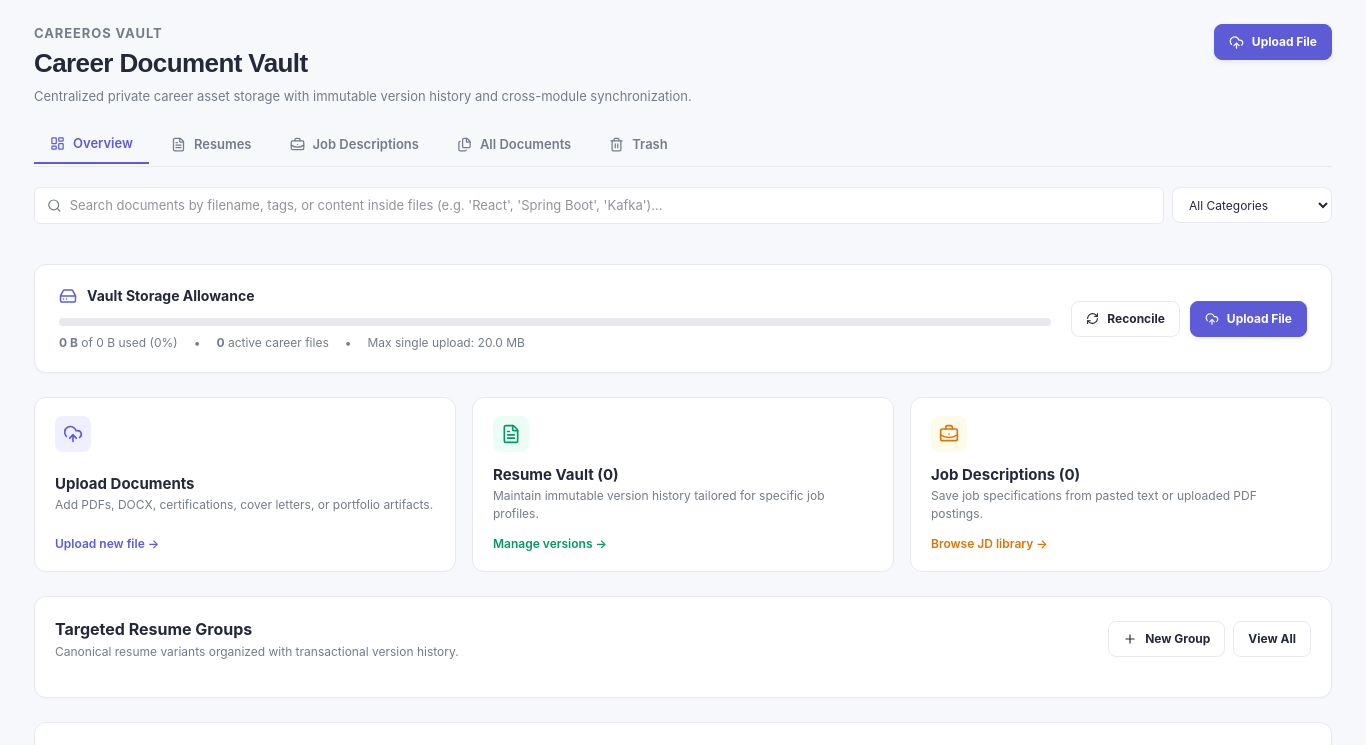
it: VaultPage integration › opens and closes the global upload modal
Later steps or results of the test are not shown.
Click the button "Upload File" in the row of "Career Document Vault": point(1273, 42) x1=1214 y1=24 x2=1332 y2=60
(page scrolled)
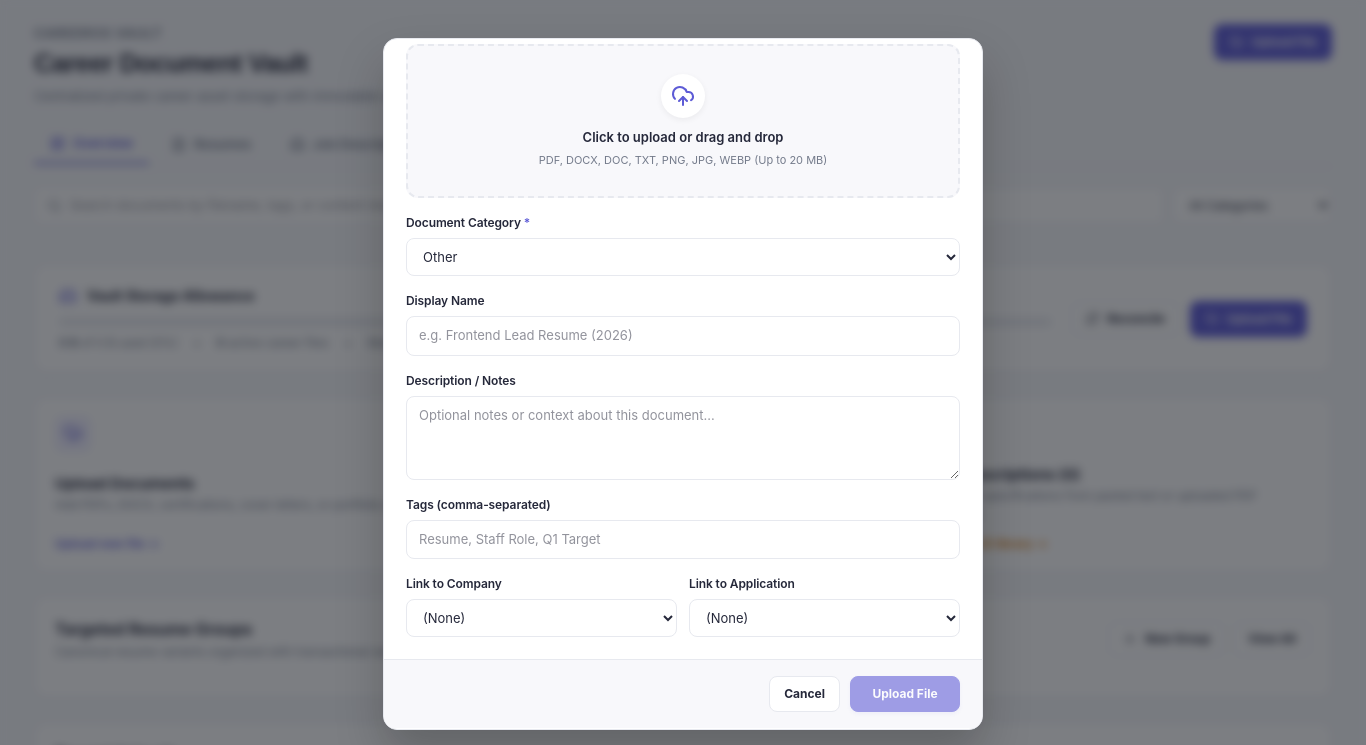
Check: the dialog "Upload to Vault" is shown, box x1=383 y1=38 x2=983 y2=730
